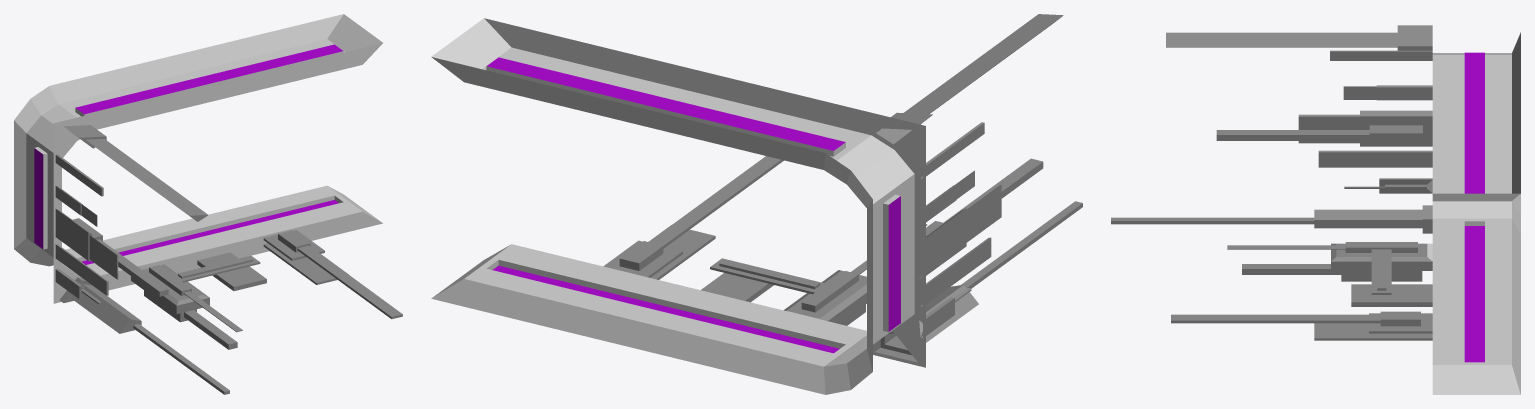
Rendered from Scene_background_2.fbx.
The picture shows the model from 3 angles, left to right: view 1: azimuth 30°, elevation 25°; view 2: azimuth 150°, elevation 25°; view 3: azimuth 270°, elevation 25°; orthographic projection. The views are drawn at different scales.
Parts seen in each view (by area): view 1: Hull; view 2: Hull; view 3: Hull.
Boxes of the visible parts, box(x1,y1,x2,y2) form: Hull: box(14, 14, 402, 394); Hull: box(431, 14, 1082, 394); Hull: box(1111, 25, 1520, 394).
Bounding box in the file's own units: 191 × 105 × 184.
